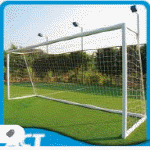goals: (5, 22, 146, 140)
